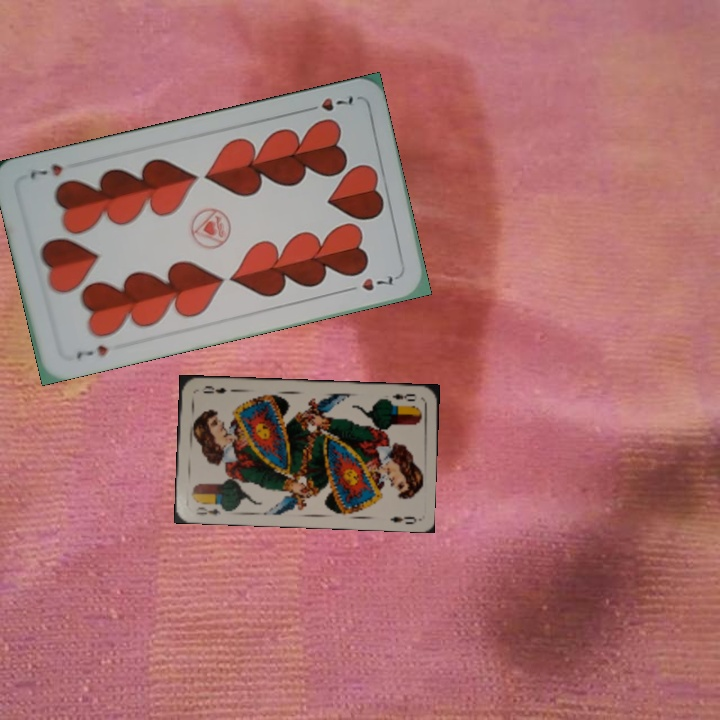EO: (382, 389, 418, 406), (192, 503, 223, 517)
H7: (301, 92, 356, 115), (72, 341, 111, 362)
